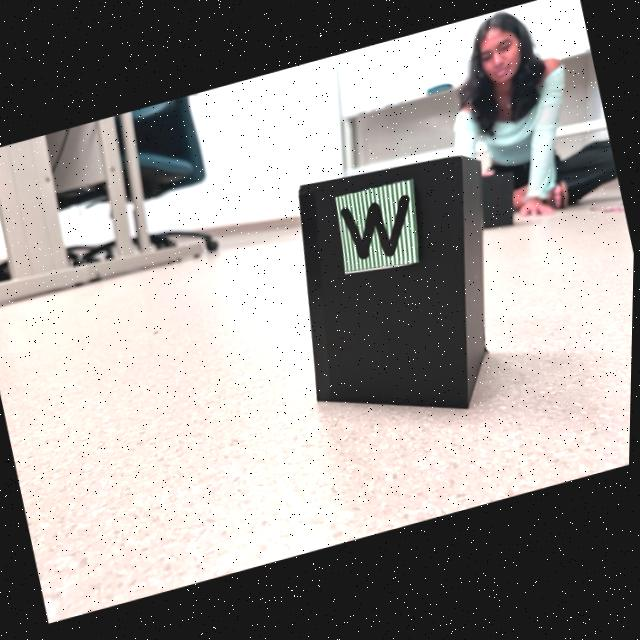W: (342, 198, 408, 262)
